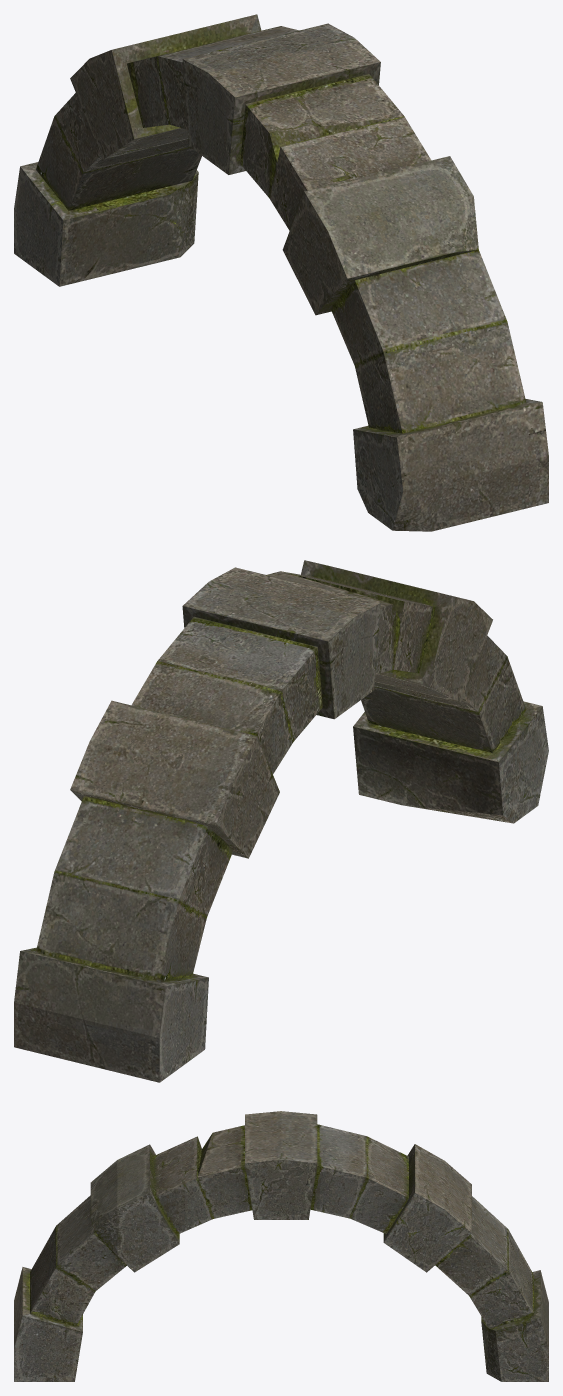
Rendered from bg_lut_lutomb_arch01_sm_old.FBX.
The picture shows the model from 3 angles, top to bottom: view 1: azimuth 30°, elevation 25°; view 2: azimuth 150°, elevation 25°; view 3: azimuth 270°, elevation 25°; orthographic projection. The views are drawn at different scales.
Visible parts, largest first — view 1: bg_lut_lutomb_arch01_sm_old; view 2: bg_lut_lutomb_arch01_sm_old; view 3: bg_lut_lutomb_arch01_sm_old.
Boxes of the visible parts, x1,y1,x2,y2 form: bg_lut_lutomb_arch01_sm_old: (14,14,548,531); bg_lut_lutomb_arch01_sm_old: (14,560,548,1082); bg_lut_lutomb_arch01_sm_old: (14,1111,548,1381).
Bounding box in the file's own units: 55.34 × 117 × 256.
